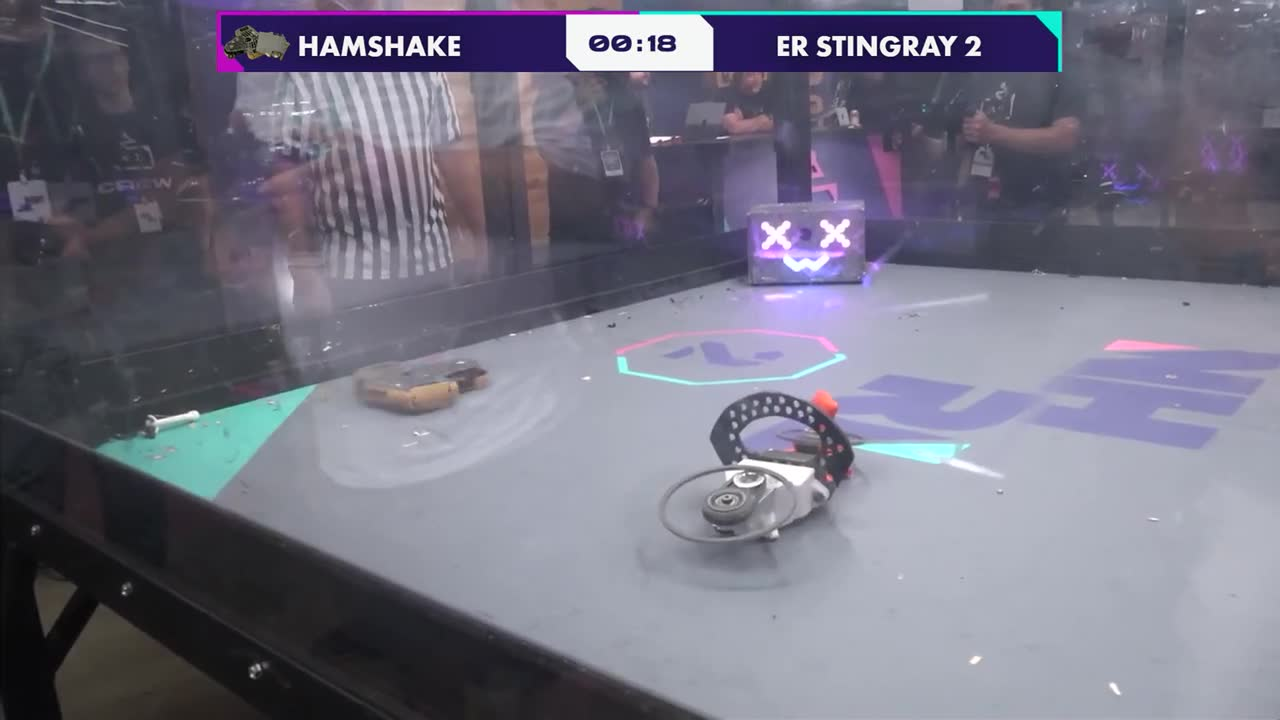combatbot: (657, 389, 863, 550), (353, 354, 491, 417)
debris: (134, 412, 204, 437)
housebot: (744, 205, 867, 289)
